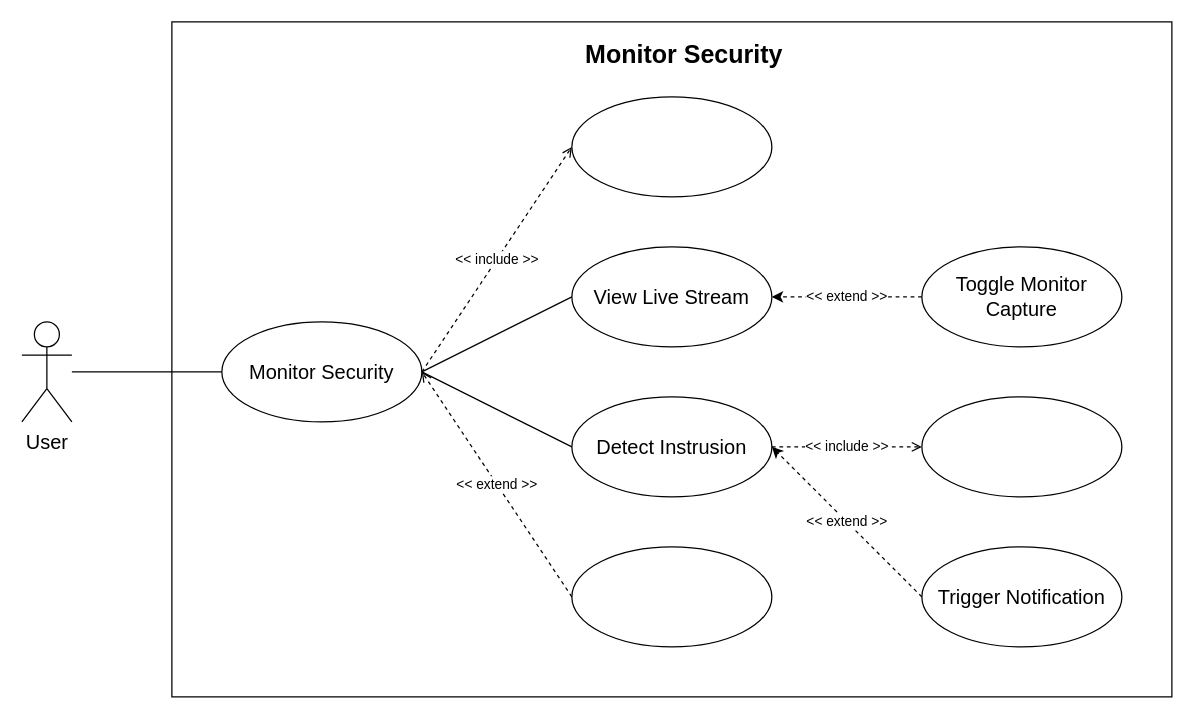
Some shapes in this 1194 by 719 pixel diagram are drawn without their labels. The shapes that lost their labels are listed below. From the top down, each one's centre as x and y in pixels, then its label:
At (671,146): "Activate Webcam".
At (1021,446): "Read IR Sensor".
At (671,596): "Record Video".
